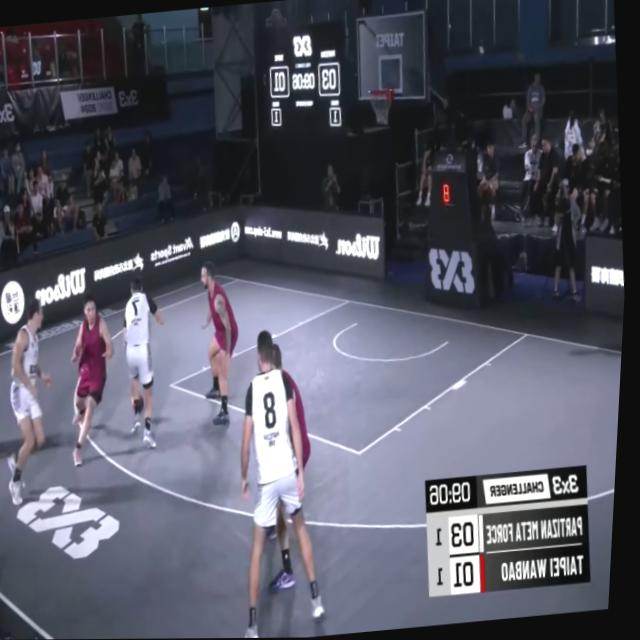ball: (132, 391, 152, 420)
hoop: (367, 84, 397, 131)
player: (225, 321, 345, 639), (236, 339, 332, 596), (0, 295, 73, 506), (61, 293, 129, 471), (115, 271, 179, 451), (197, 262, 254, 432)
